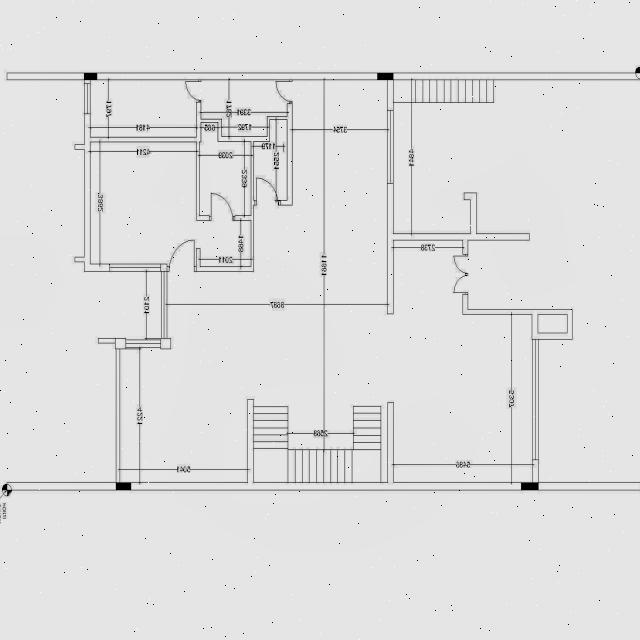Column: (521, 482, 539, 490), (115, 482, 132, 490), (378, 72, 393, 80), (84, 72, 97, 80)
Door: (167, 240, 196, 272), (253, 177, 280, 205), (209, 192, 235, 221), (275, 80, 293, 104), (185, 80, 201, 102)
Double-Door: (452, 254, 468, 294)
Staircase: (253, 399, 388, 483), (412, 80, 494, 103)
Window: (532, 339, 538, 460), (109, 264, 161, 272), (161, 271, 167, 339), (126, 338, 161, 349), (388, 110, 393, 184), (84, 83, 90, 114)
